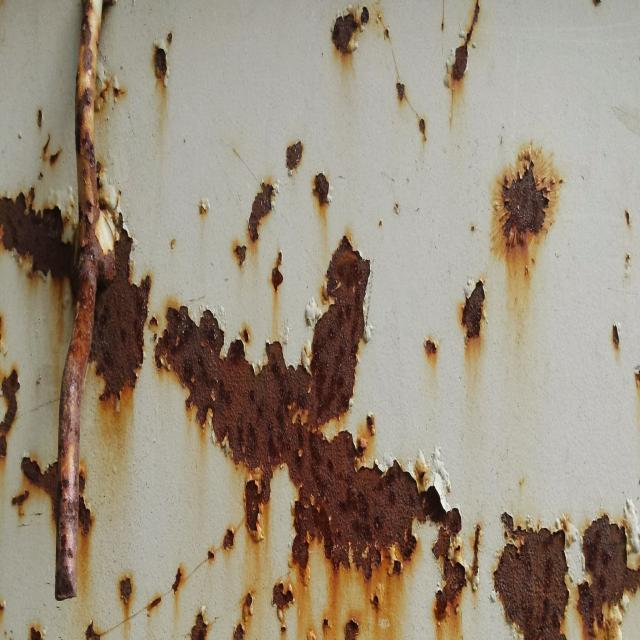Pitting Corrosion: (155, 240, 473, 622), (55, 0, 103, 600), (90, 228, 150, 404), (494, 529, 569, 639), (579, 514, 640, 634), (0, 192, 73, 279)
